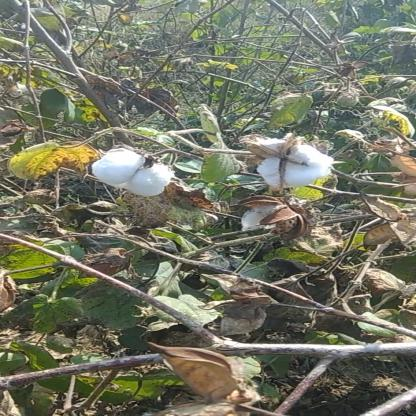cotton_ready: (232, 128, 356, 194), (68, 144, 186, 208)
